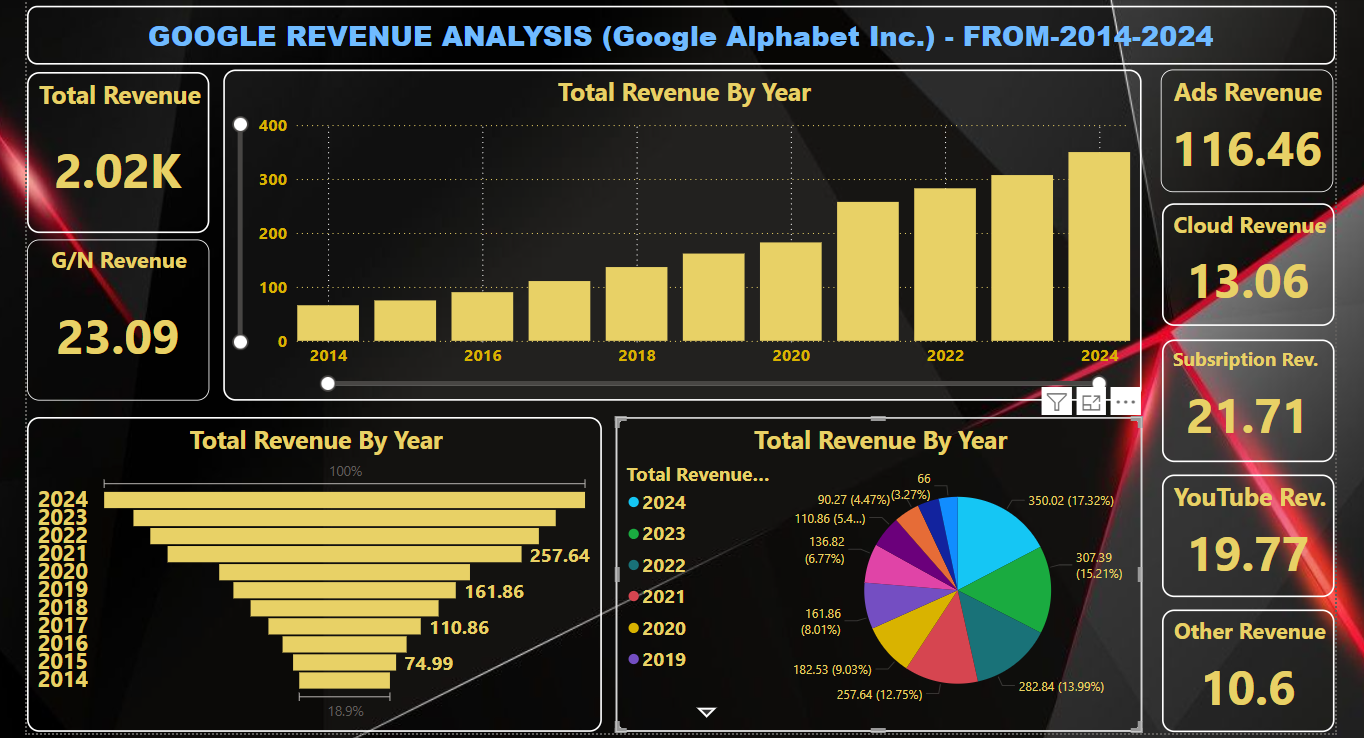

The dashboard page shown, as its layout file describes it:
{"tool":"powerbi","page":{"name":"Page 1","canvas":[1280,720],"ordinal":0},"visuals":[{"type":"clusteredColumnChart","title":"Total Revenue By Year","fields":{"Category":["_xlnm Print_Area.Year"],"Y":["Sum(_xlnm Print_Area.Total Revenue (in billions USD))"]},"box":[192,70.9,898.8,324.1],"z":0},{"type":"textbox","box":[0,8.6,1280.3,57.5],"z":1000},{"type":"card","title":"Ads Revenue","fields":{"Values":["Min(_xlnm Print_Area.Advertising Revenue)"]},"box":[1109.1,70.9,168.8,119.8],"z":2000},{"type":"card","title":"Cloud Revenue","fields":{"Values":["Min(_xlnm Print_Area.Google Cloud Revenue)"]},"box":[1110.3,201.8,168.8,119.8],"z":3000},{"type":"card","title":"Subsription Rev.","fields":{"Values":["Min(_xlnm Print_Area.Subscriptions, Platforms & Devices)"]},"box":[1110.3,335.1,168.8,119.8],"z":4000},{"type":"card","title":"YouTube Rev.","fields":{"Values":["Min(_xlnm Print_Area.YouTube Ads)"]},"box":[1110.3,467.1,168.8,119.8],"z":5000},{"type":"card","title":"Other Revenue","fields":{"Values":["Min(_xlnm Print_Area.Other Revenue)"]},"box":[1110.3,599.2,168.8,119.8],"z":6000},{"type":"pieChart","title":"Total Revenue By Year","fields":{"Category":["_xlnm Print_Area.Year"],"Y":["Sum(_xlnm Print_Area.Total Revenue (in billions USD))"]},"box":[576,410.9,514.8,308.2],"z":7000},{"type":"funnel","title":"Total Revenue By Year","fields":{"Category":["_xlnm Print_Area.Year"],"Y":["Sum(_xlnm Print_Area.Total Revenue (in billions USD))"]},"box":[0,410.9,562.5,308.2],"z":8000},{"type":"card","title":"G/N Revenue","fields":{"Values":["Min(_xlnm Print_Area.Google Network)"]},"box":[0,237.2,178.5,157.7],"z":9000},{"type":"card","title":"Total Revenue","fields":{"Values":["Sum(_xlnm Print_Area.Total Revenue (in billions USD))"]},"box":[0,73.4,178.5,157.7],"z":10000}]}

Visuals, with their boxes in screenshot pixels (x1, y1, x2, y2):
"Total Revenue By Year" clusteredColumnChart: box(230, 68, 1139, 396)
textbox: box(36, 5, 1331, 63)
"Ads Revenue" card: box(1158, 68, 1329, 189)
"Cloud Revenue" card: box(1159, 201, 1330, 322)
"Subsription Rev." card: box(1159, 336, 1330, 457)
"YouTube Rev." card: box(1159, 469, 1330, 590)
"Other Revenue" card: box(1159, 603, 1330, 724)
"Total Revenue By Year" pieChart: box(618, 412, 1139, 724)
"Total Revenue By Year" funnel: box(36, 412, 605, 724)
"G/N Revenue" card: box(36, 236, 216, 396)
"Total Revenue" card: box(36, 71, 216, 230)
